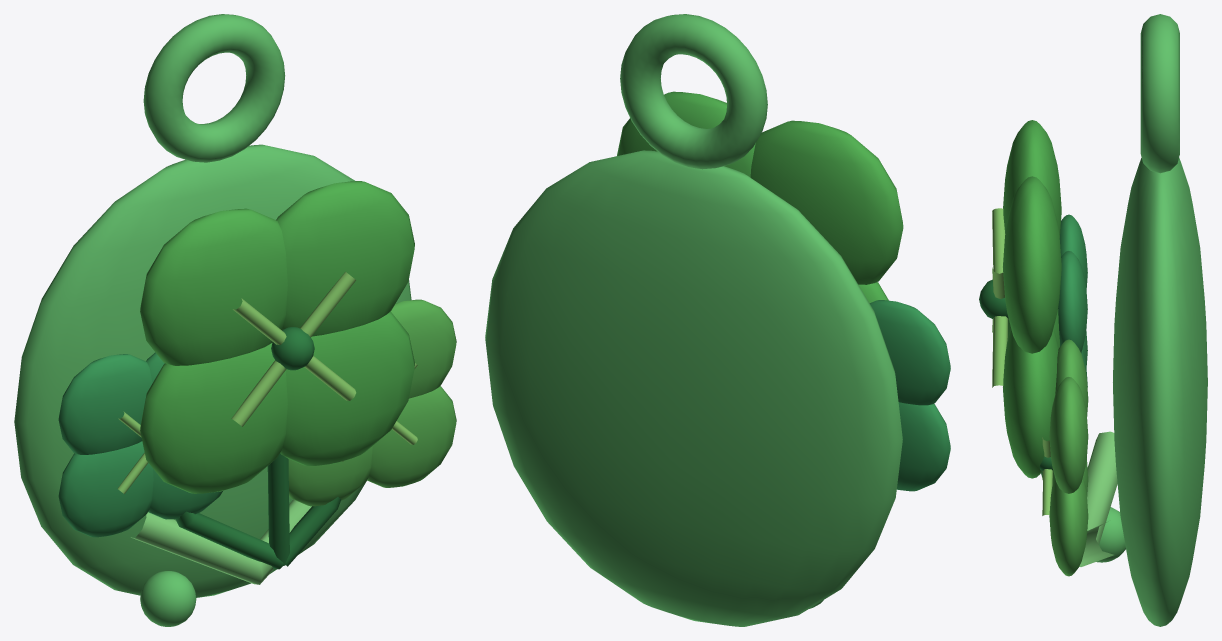
Rendered from clovercharm.glb.
3 renders of one model, left to right at view 1: azimuth 30°, elevation 25°; view 2: azimuth 150°, elevation 25°; view 3: azimuth 270°, elevation 25°, orthographic. The views are drawn at different scales.
Parts seen in each view (by area): view 1: _clover-stem.002, _goo-binding, _clover-stem, _clover-stem.001; view 2: _goo-binding, _clover-stem.002, _clover-stem; view 3: _goo-binding, _clover-stem.002, _clover-stem.001, _clover-stem.
Part boxes in pixels (box(x1,y1,x2,y2)): _clover-stem.002: box(140, 181, 414, 565); _goo-binding: box(14, 14, 411, 626); _clover-stem: box(58, 352, 283, 569); _clover-stem.001: box(286, 299, 456, 566); _goo-binding: box(485, 14, 902, 626); _clover-stem.002: box(617, 91, 903, 303); _clover-stem: box(869, 300, 950, 491); _goo-binding: box(1079, 14, 1207, 626); _clover-stem.002: box(979, 120, 1061, 478); _clover-stem.001: box(1039, 339, 1088, 576); _clover-stem: box(1058, 214, 1087, 386).
Size of the model in its own units: 0.6413 by 0.884 by 0.3128.
